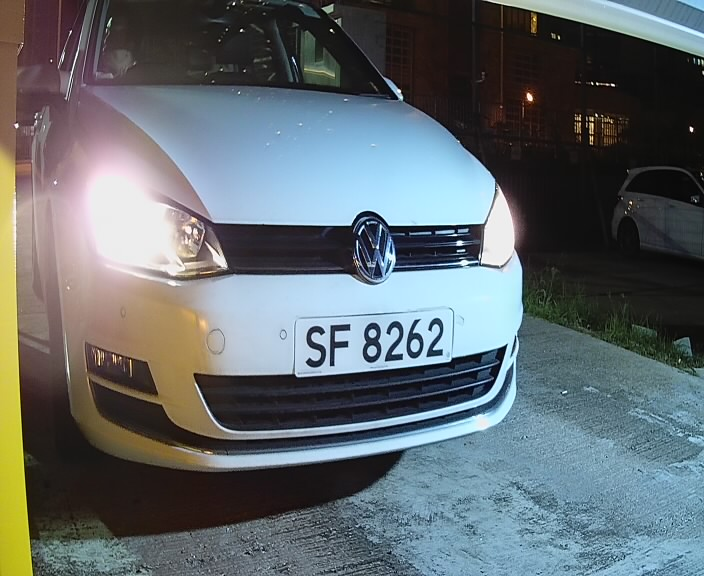Car: (31, 9, 535, 512)
License Plate: (284, 304, 462, 382)
